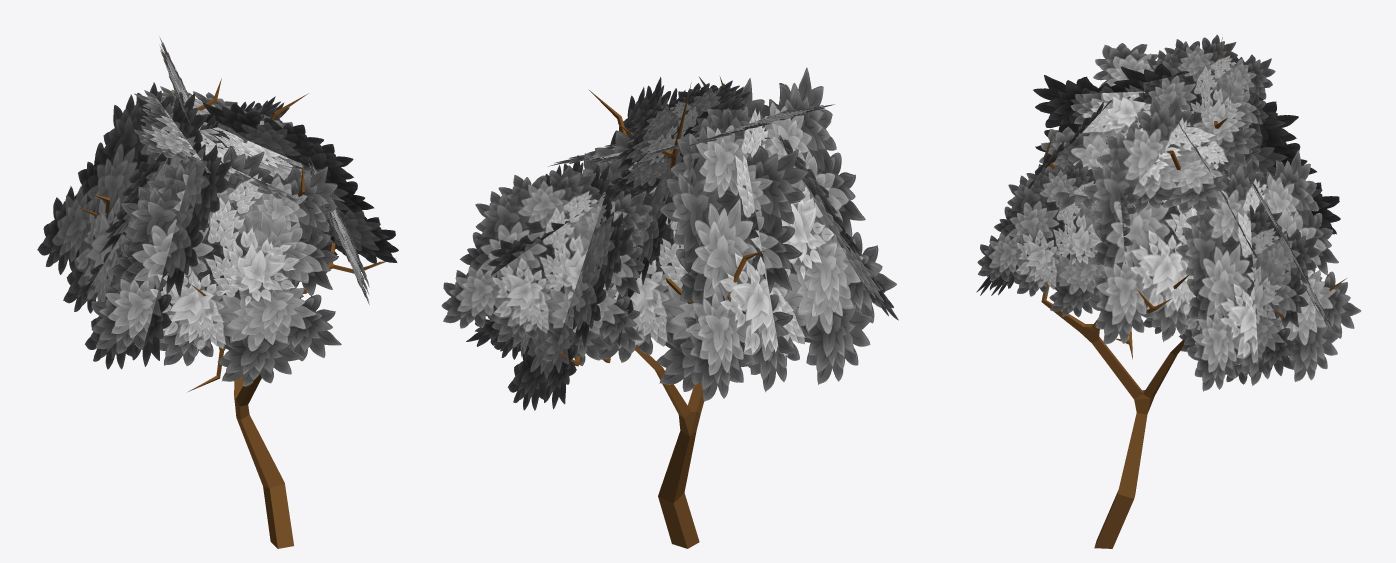
File: TreeOptimized.fbx
3 renders of one model, left to right at view 1: azimuth 30°, elevation 25°; view 2: azimuth 150°, elevation 25°; view 3: azimuth 270°, elevation 25°, orthographic. The views are drawn at different scales.
Parts seen in each view (by area): view 1: Cube.001; view 2: Cube.001; view 3: Cube.001.
Part boxes in pixels (x1,y1,x2,y2): Cube.001: [37, 37, 398, 548]; Cube.001: [441, 67, 898, 548]; Cube.001: [976, 35, 1361, 548].
Bounding box in the file's own units: 373 × 481 × 387.
